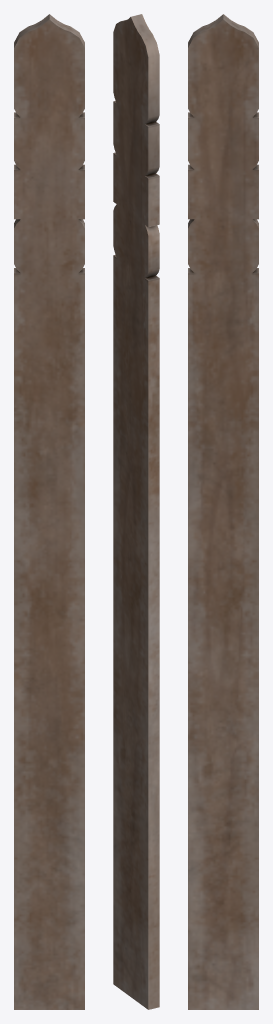
File: JT_Gy_Prp_Sotōba_A_01.fbx
The picture shows the model from 3 angles, left to right: view 1: azimuth 90°, elevation 25°; view 2: azimuth 210°, elevation 25°; view 3: azimuth 270°, elevation 25°; orthographic projection.
Parts seen in each view (by area): view 1: JT_Gy_Prp_Sotōba_A_01, JT_Gy_Prp_Sotōba_A_01_LOD0; view 2: JT_Gy_Prp_Sotōba_A_01, JT_Gy_Prp_Sotōba_A_01_LOD0; view 3: JT_Gy_Prp_Sotōba_A_01, JT_Gy_Prp_Sotōba_A_01_LOD0.
Part boxes in pixels (x1,y1,x2,y2): JT_Gy_Prp_Sotōba_A_01: (14,14,84,1009); JT_Gy_Prp_Sotōba_A_01_LOD0: (14,14,84,1009); JT_Gy_Prp_Sotōba_A_01: (113,17,159,1009); JT_Gy_Prp_Sotōba_A_01_LOD0: (113,14,159,1008); JT_Gy_Prp_Sotōba_A_01: (188,14,258,1009); JT_Gy_Prp_Sotōba_A_01_LOD0: (188,14,258,1009).
Size of what is drawn, in the model's own units: 0.0247 by 2.06 by 0.1335.
